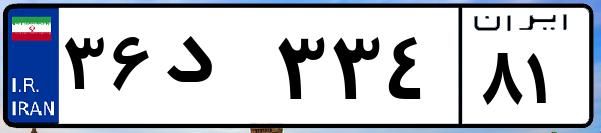1: (525, 38, 570, 115)
3: (270, 28, 330, 110), (330, 28, 385, 110), (57, 26, 110, 100)
4: (385, 28, 445, 110)
6: (110, 28, 158, 98)
8: (475, 38, 525, 113)
د: (158, 20, 270, 120)
